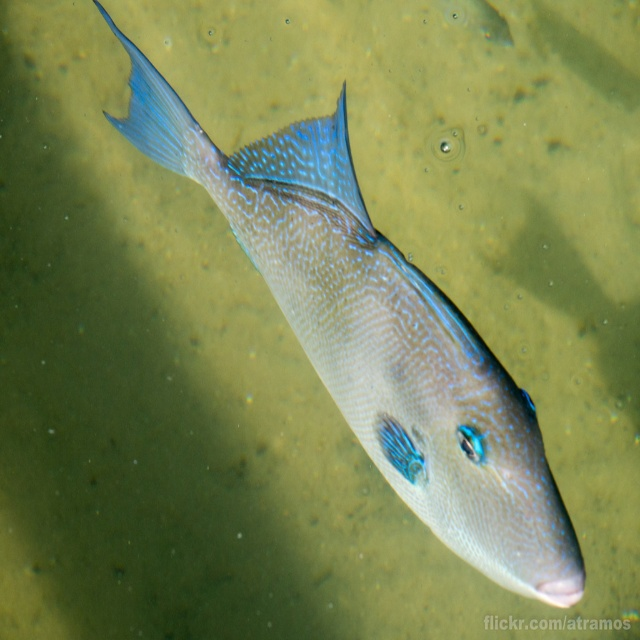Fish: (92, 25, 506, 517)
